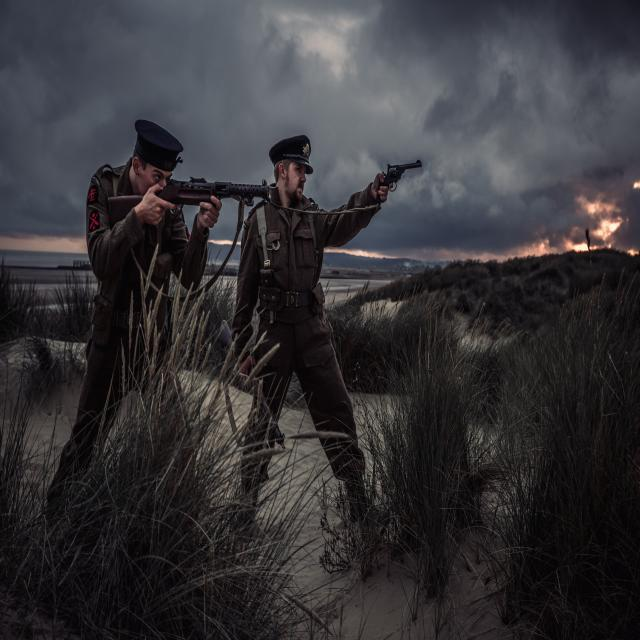Gun: (159, 180, 267, 227), (376, 159, 422, 195), (108, 195, 143, 224)
